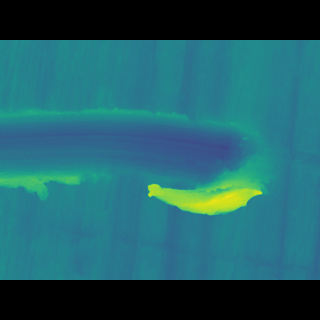Loch: (0, 118, 277, 203)
